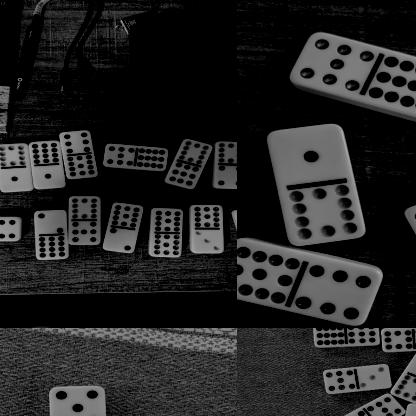pip-1: (268, 124, 348, 186), (0, 167, 33, 192), (34, 164, 66, 189)
pip-10: (284, 184, 367, 245), (178, 138, 213, 165), (68, 196, 102, 219), (391, 373, 416, 403), (0, 143, 28, 166), (215, 140, 237, 163)
pip-11: (237, 236, 301, 304), (190, 203, 225, 228), (109, 202, 144, 227), (66, 154, 99, 180), (149, 232, 183, 256), (151, 208, 184, 232)
pip-12: (369, 55, 416, 118), (35, 234, 70, 258), (31, 140, 62, 165), (137, 147, 169, 171), (314, 328, 346, 347)
pip-2: (103, 225, 134, 252), (35, 210, 69, 234)
pip-3: (358, 362, 392, 391), (192, 228, 224, 253)
pip-4: (214, 163, 237, 188)
pip-5: (49, 384, 106, 416), (336, 409, 377, 416)
pip-6: (296, 264, 385, 326), (61, 130, 93, 154), (0, 216, 21, 241)
pip-7: (290, 31, 374, 91), (367, 393, 406, 416), (104, 142, 137, 169), (69, 220, 102, 245), (324, 368, 357, 393)
pip-8: (380, 328, 414, 352)
pip-9: (165, 162, 201, 189), (345, 328, 380, 347)
